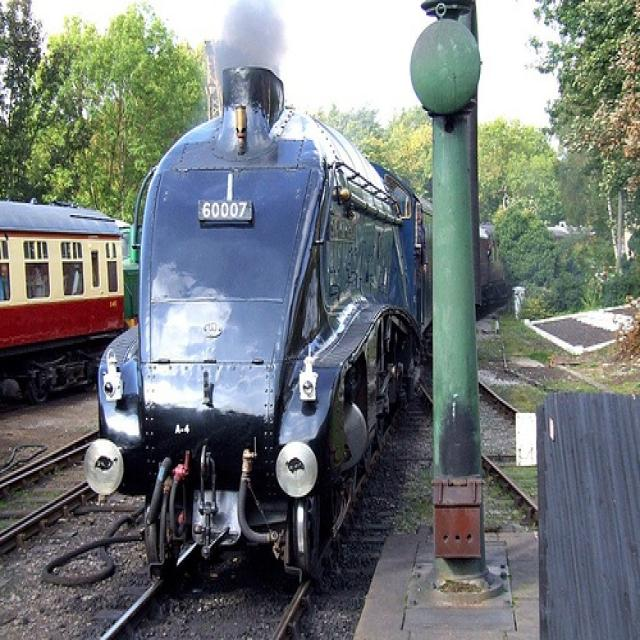train: (88, 61, 506, 584), (0, 203, 125, 409)
